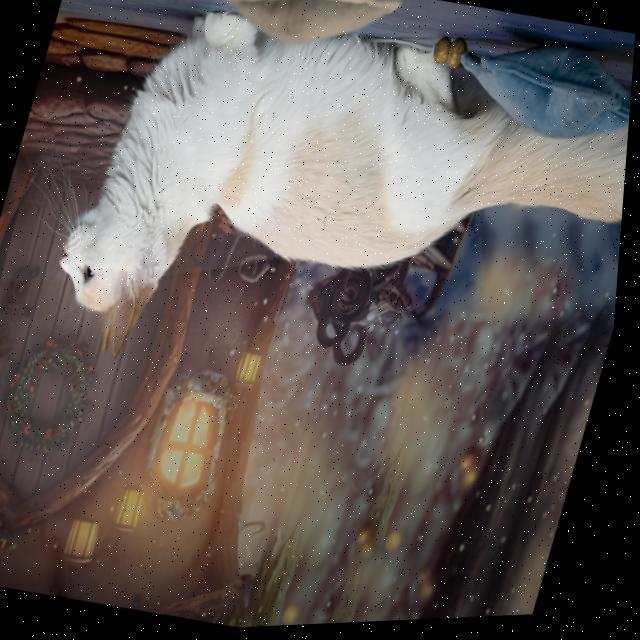Munchkin: (24, 0, 640, 472)
